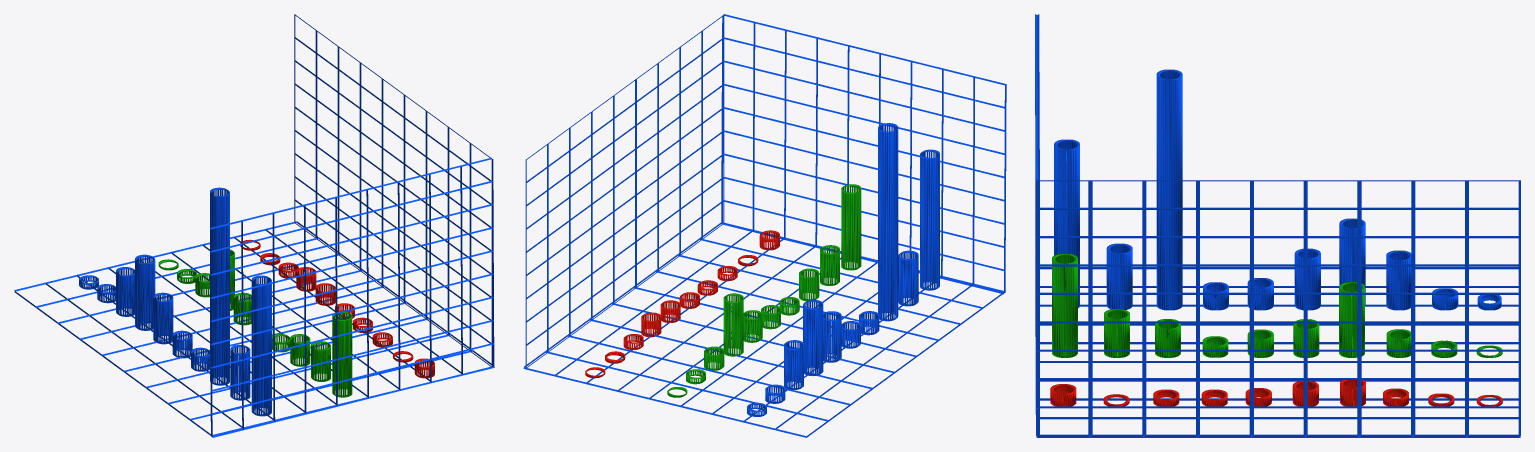
The model's file is v1-bar-graph-2.fbx.
3 renders of one model, left to right at view 1: azimuth 30°, elevation 25°; view 2: azimuth 150°, elevation 25°; view 3: azimuth 270°, elevation 25°, orthographic. The views are drawn at different scales.
Parts seen in each view (by area): view 1: Grid.002; view 2: Grid.002; view 3: Grid.002.
Boxes of the visible parts, x1=… form: Grid.002: x1=14, y1=14, x2=494, y2=437; Grid.002: x1=523, y1=14, x2=1006, y2=437; Grid.002: x1=1035, y1=14, x2=1520, y2=437.
Bounding box in the file's own units: 3460 × 2450 × 4194.
